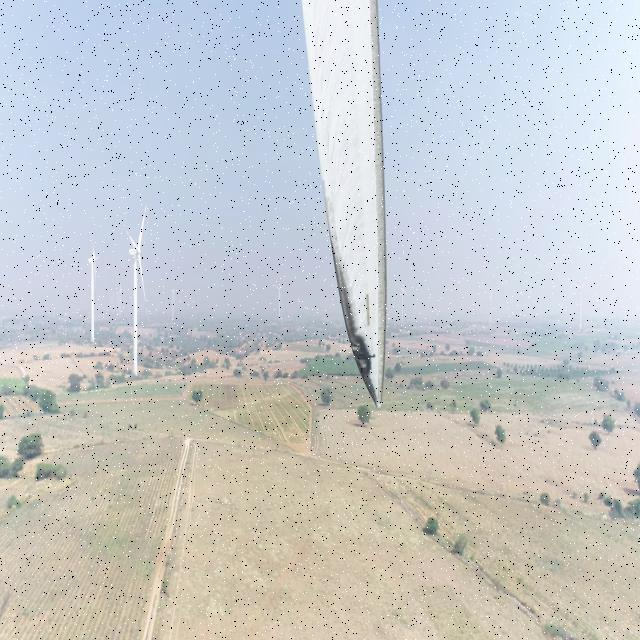Dirt: (298, 0, 381, 400)
Oil LEAKAGE: (334, 260, 380, 408)
Pin Hole: (369, 348, 379, 363)
